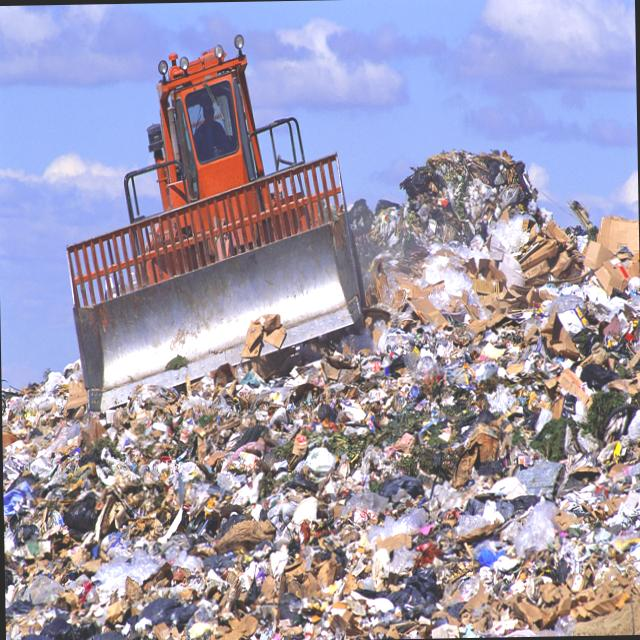garbage: (7, 349, 640, 640), (362, 141, 640, 639)
